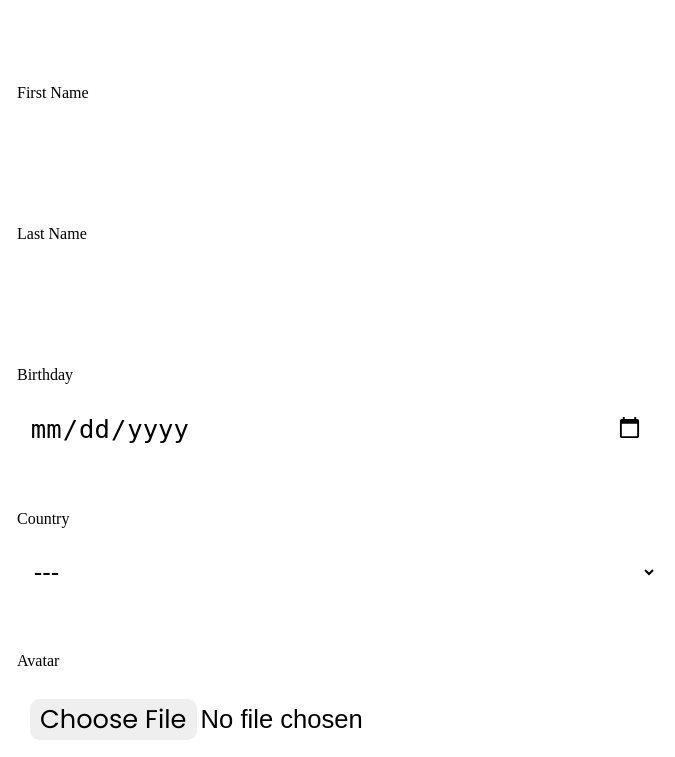
Test case: on submitting uncomplete Form › should display error if birth date is invalid
In the date field with test id "birthday": [337, 429] box [17, 400, 657, 458], type "2200-01-01"
(page scrolled)
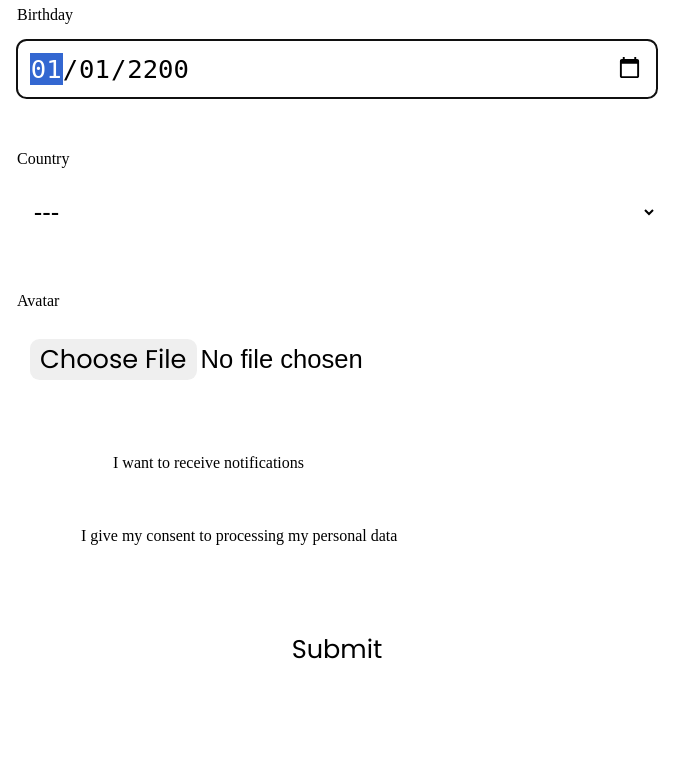
Click the button with test id "submit-button": [337, 650] box [17, 610, 657, 689]
(page scrolled)
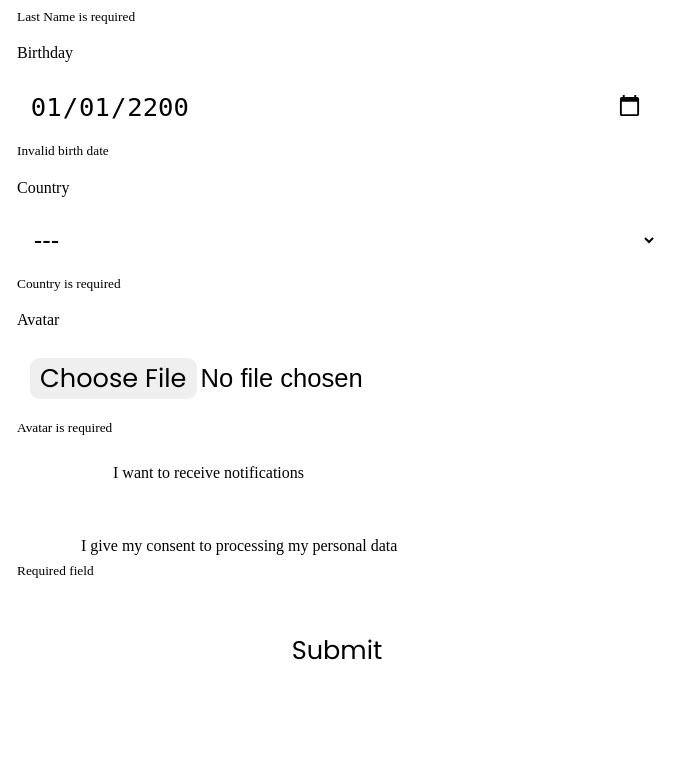
Check: the text "Invalid birth date" is shown, box [17, 143, 109, 158]
